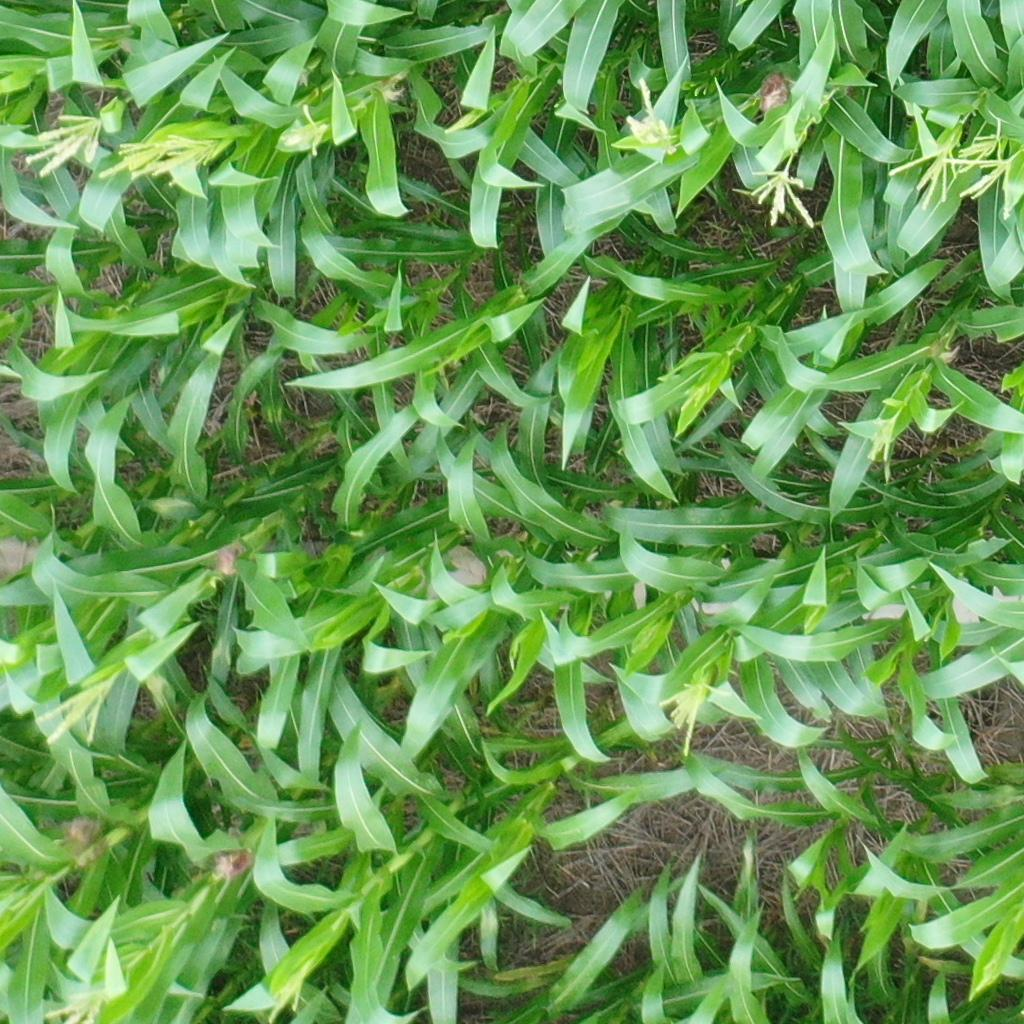Tassel: (29, 667, 125, 747), (656, 676, 731, 760), (18, 106, 100, 180), (878, 138, 958, 210), (744, 160, 822, 229), (942, 151, 1016, 213), (619, 71, 675, 151), (96, 133, 172, 179), (155, 135, 231, 177), (953, 117, 1005, 173), (278, 104, 335, 155), (863, 411, 897, 468), (678, 379, 715, 416)
